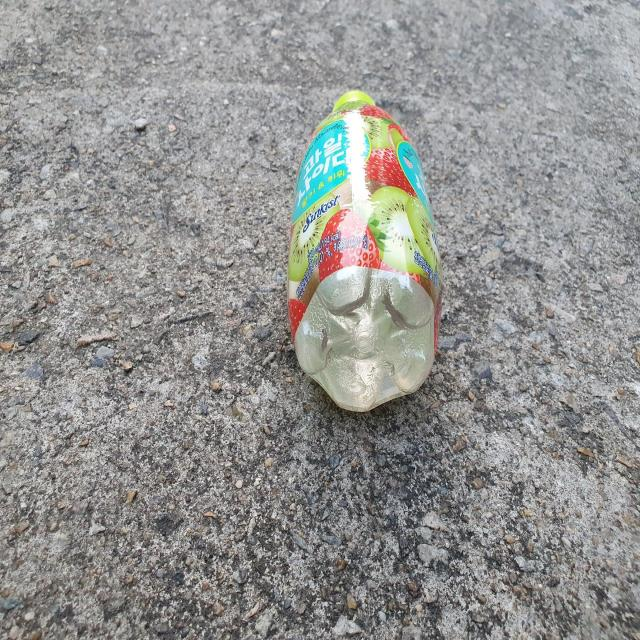plastic: (288, 90, 443, 411)
